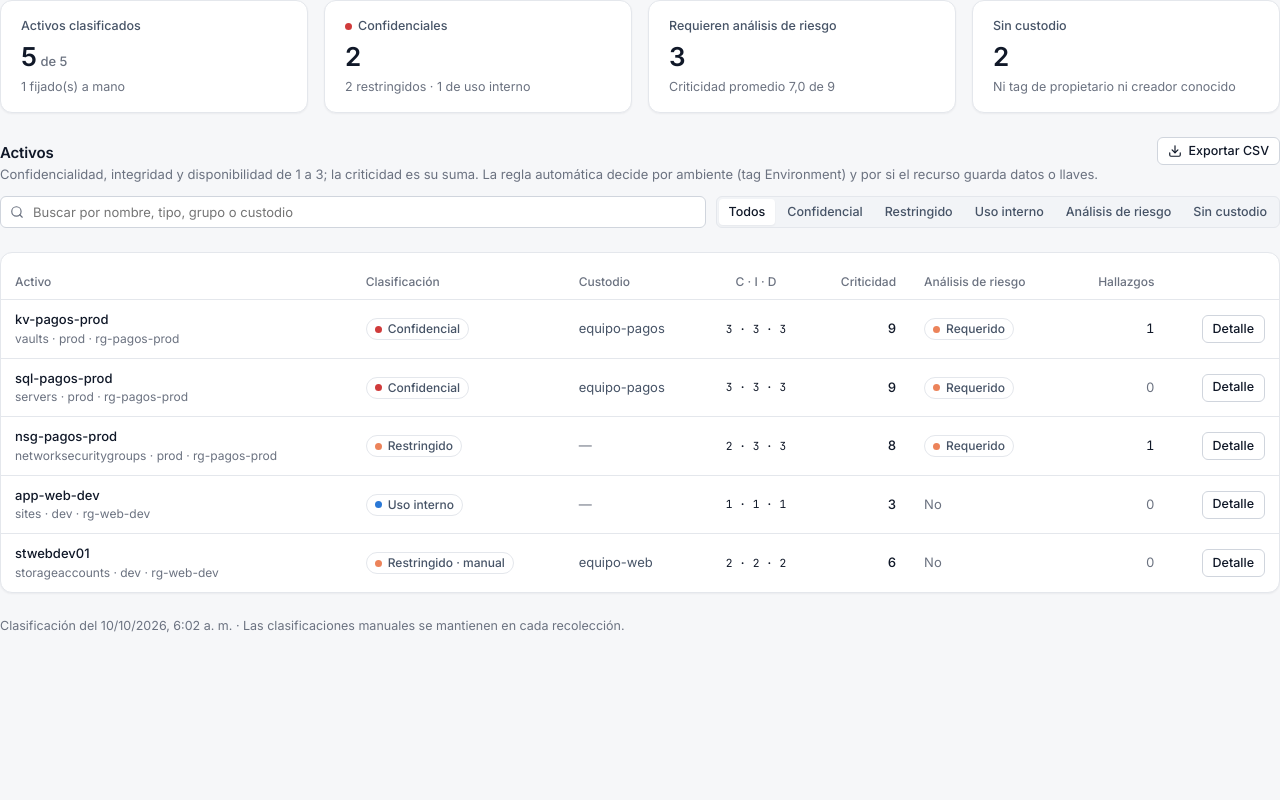
Clasificación de activos › un lector ve el detalle pero no puede cambiarlo
The image size is (1280, 800).
Expected: the text "stwebdev01" is shown, 15,545 -> 90,561
Click the button "Detalle" in the row of "stwebdev01". click: (1233, 563)
box: 1202,549 -> 1265,577
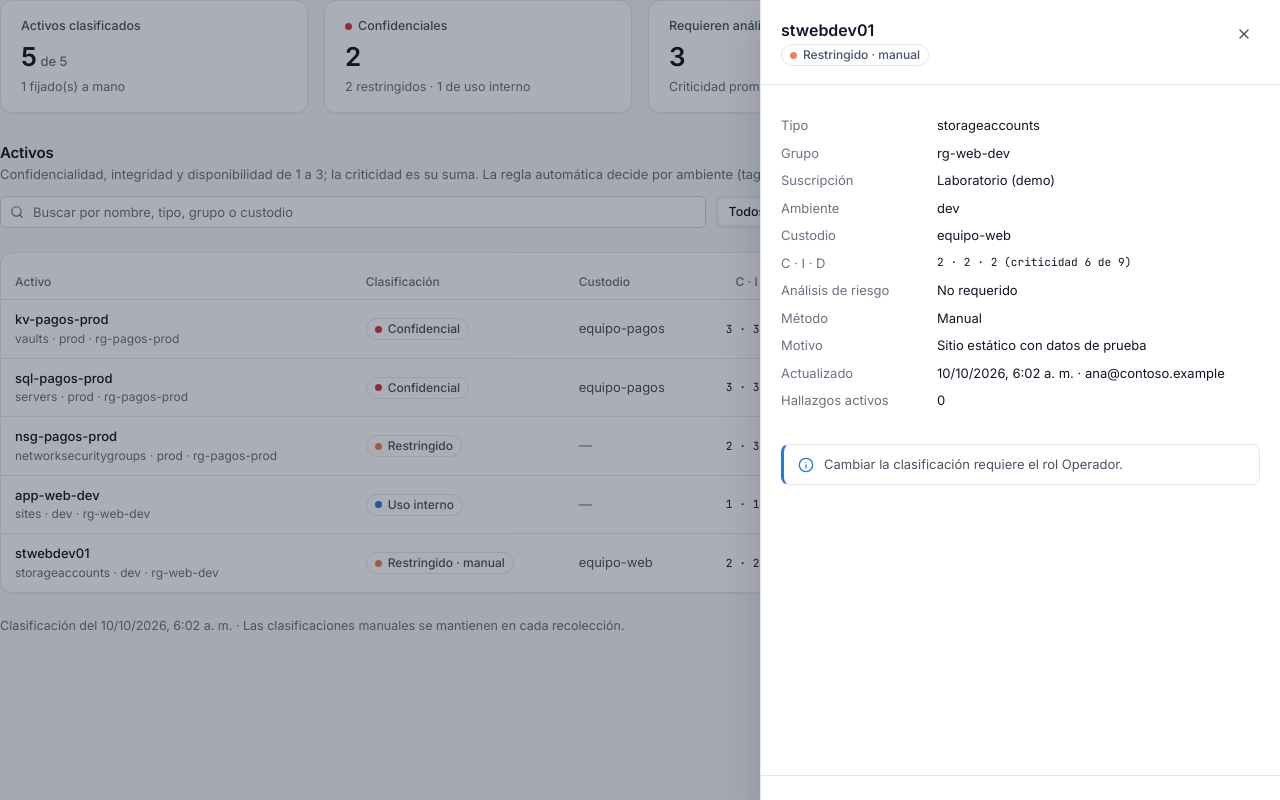
Result: the text "Cambiar la clasificación requiere el rol Operador." is shown at 824,456 -> 1123,472
